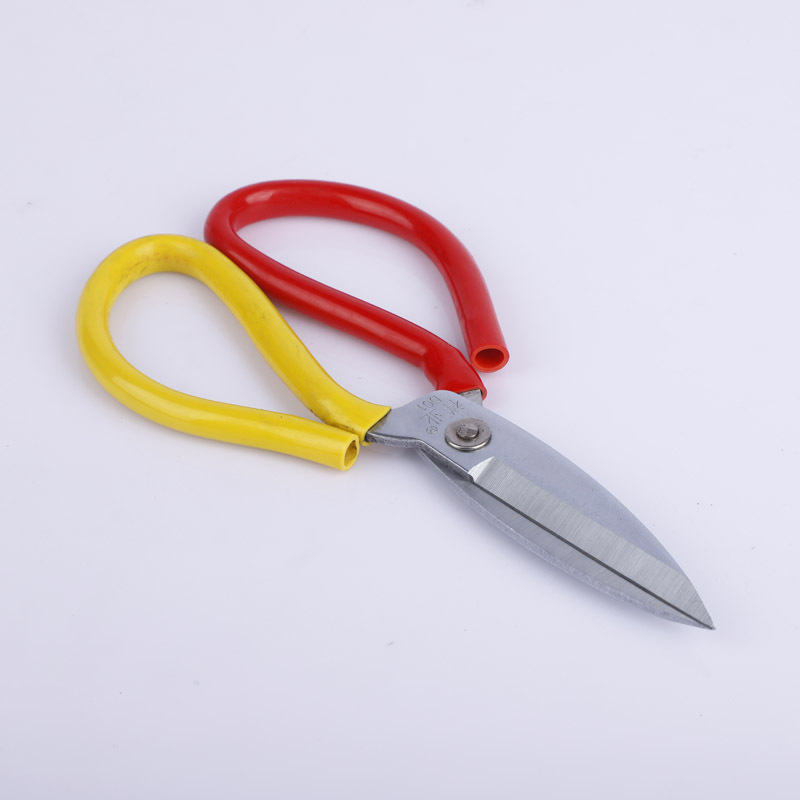scissors: (65, 177, 721, 641)
